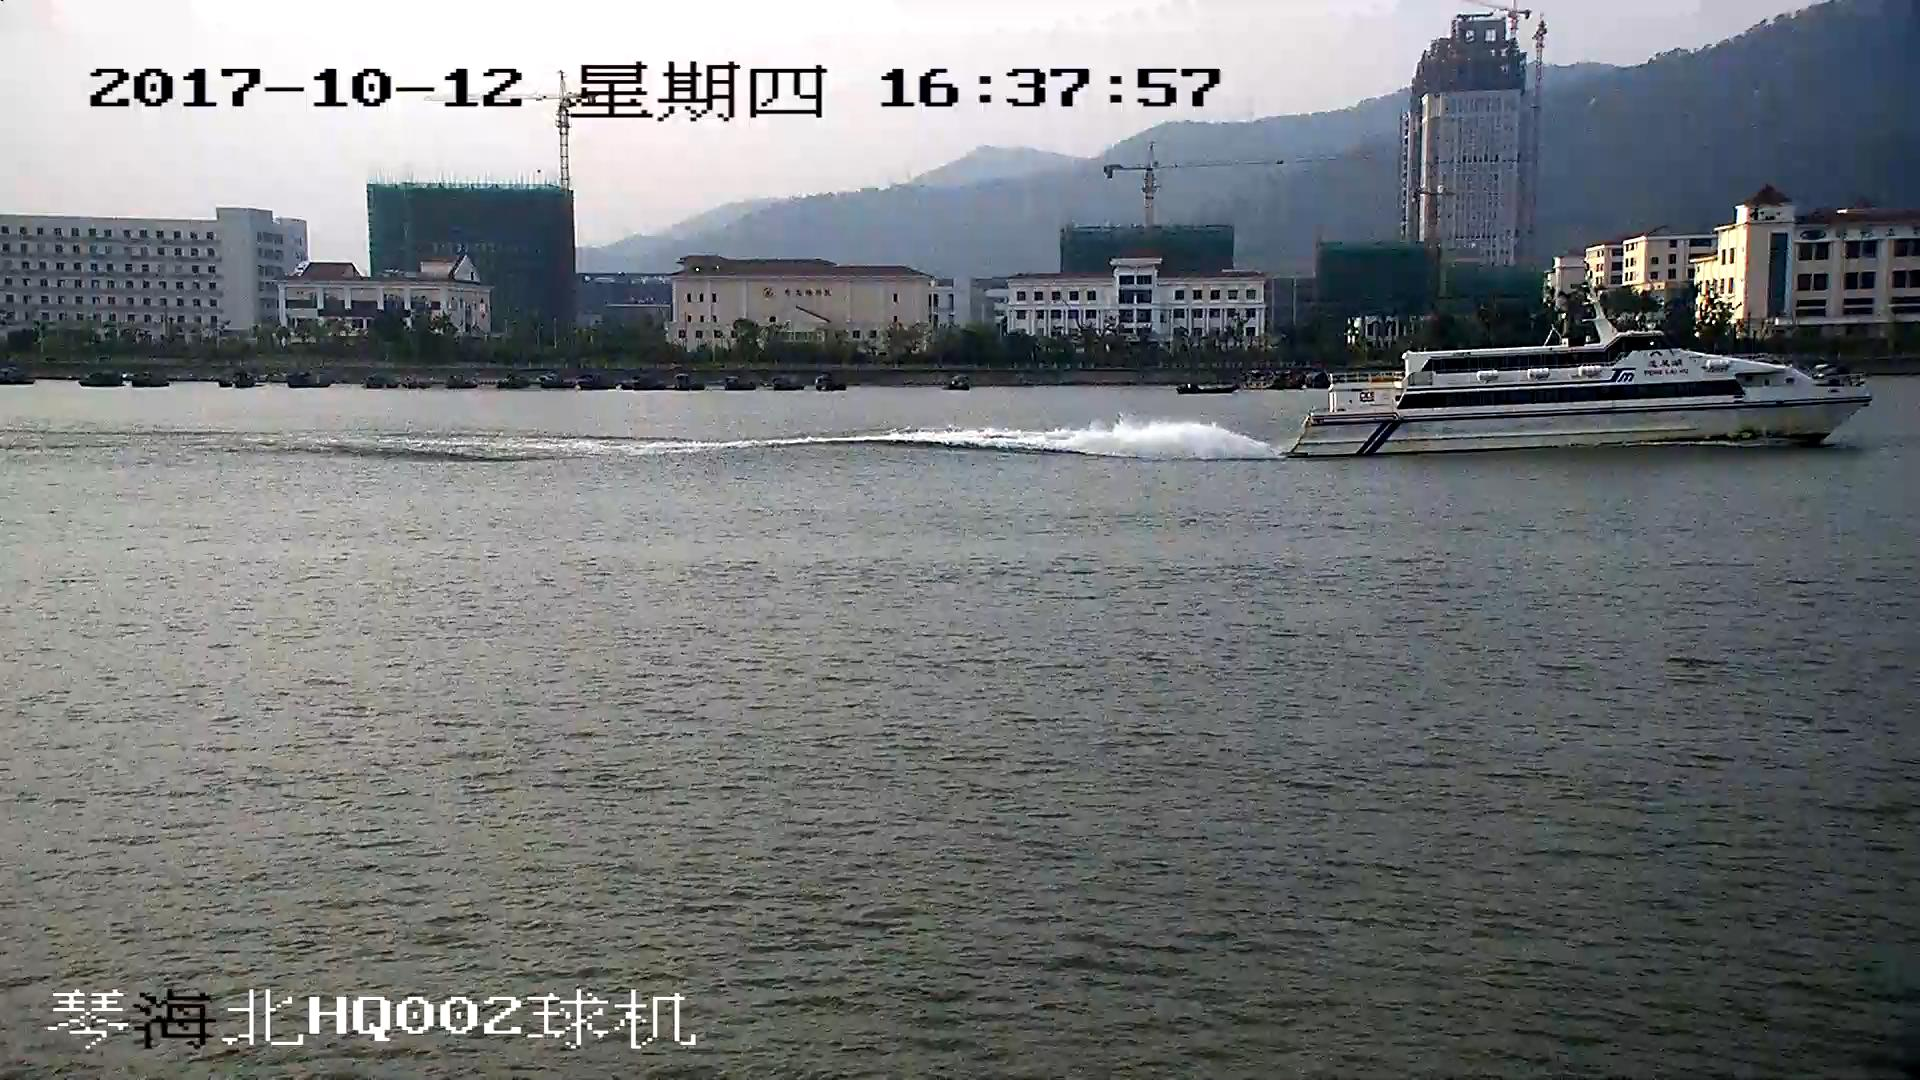passenger ship: (1298, 263, 1866, 456)
